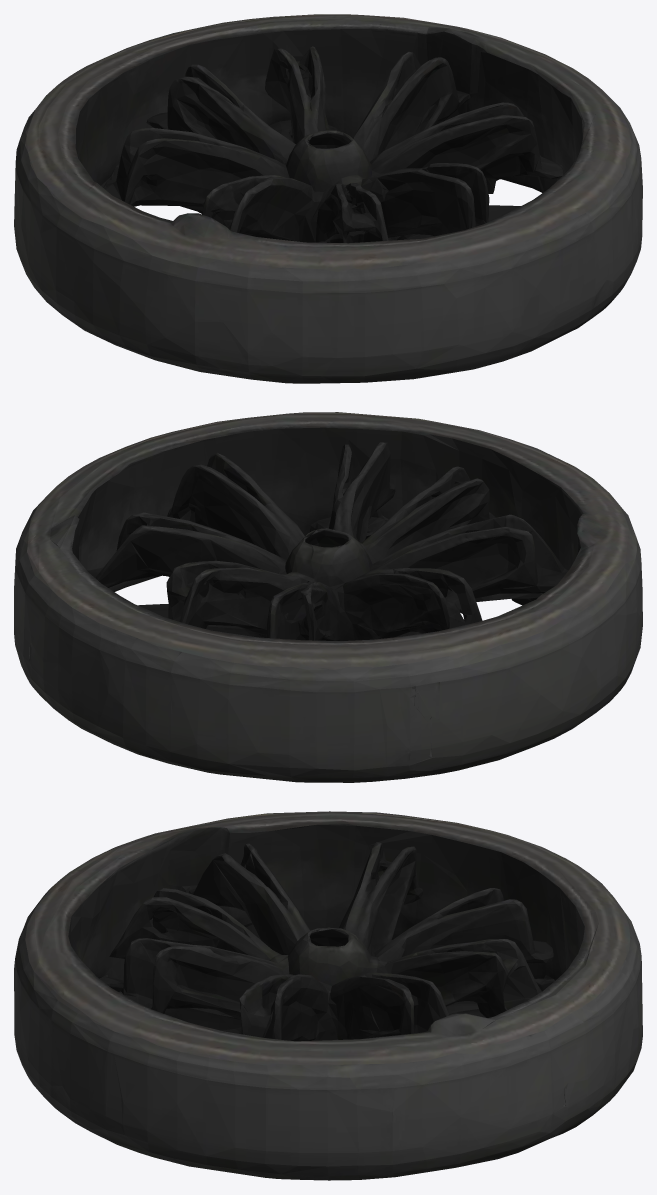
The model's file is tire2.glb.
3 views of the same model, one above another, from view 1: azimuth 30°, elevation 25°; view 2: azimuth 150°, elevation 25°; view 3: azimuth 270°, elevation 25° (orthographic).
Parts seen in each view (by area): view 1: geometry_0; view 2: geometry_0; view 3: geometry_0.
Part boxes in pixels (x1,y1,x2,y2): geometry_0: (14,14,642,383); geometry_0: (14,412,642,782); geometry_0: (14,811,642,1180).
Bounding box in the file's own units: 0.9995 × 0.2684 × 0.9969.
1 material, 1 textured.
